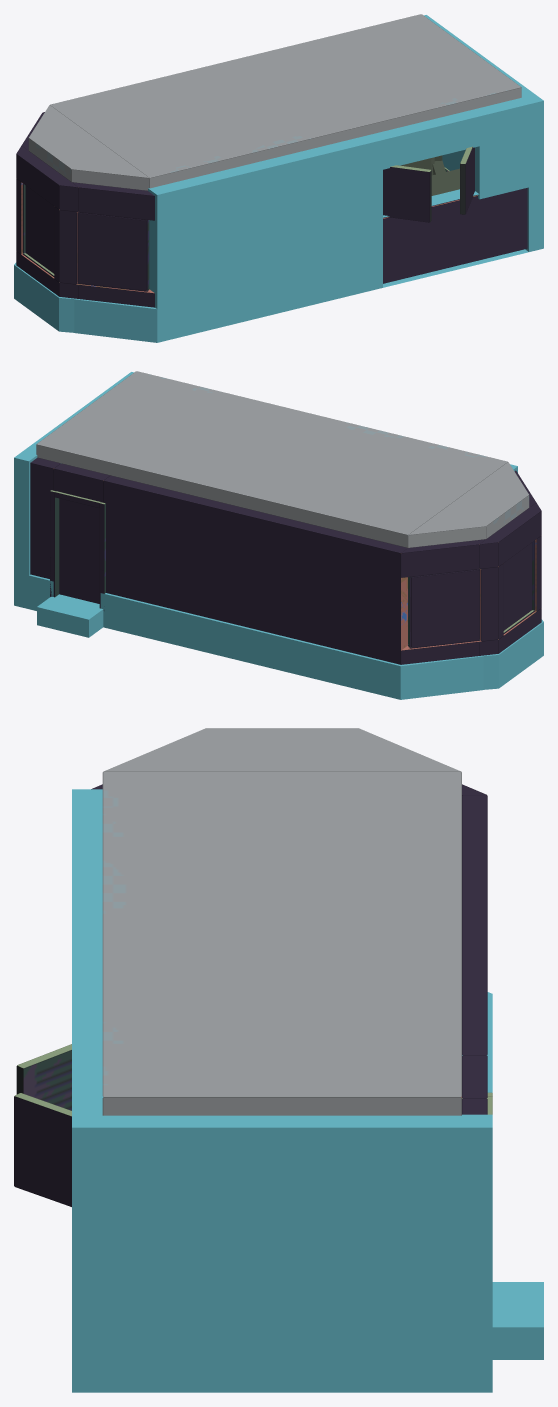
The model's file is Bedroom.fbx.
The picture shows the model from 3 angles, top to bottom: view 1: azimuth 30°, elevation 25°; view 2: azimuth 150°, elevation 25°; view 3: azimuth 270°, elevation 25°; orthographic projection. The views are drawn at different scales.
Parts seen in each view (by area): view 1: map border, cuboid_3, wall behind_16, cuboid_4, cuboid_8, cuboid_6, wall behind_10, wall behind_11, cuboid_7, wall behind_19, wall behind_14, wall behind_13 (+6 smaller); view 2: cuboid_3, wall behind_7, map border, cuboid_4, cuboid_9, door, wall behind_8, wall behind_9, wall behind_11, cuboid_7, frames_9, wall behind_20 (+6 smaller); view 3: map border, cuboid_3, cuboid_4, wall behind_7, cuboid_5, cuboid_6, wall behind_12.
Boxes of the visible parts, x1=… form: map border: x1=14, y1=15, x2=543, y2=342; cuboid_3: x1=50, y1=14, x2=521, y2=188; wall behind_16: x1=383, y1=188, x2=527, y2=283; cuboid_4: x1=28, y1=105, x2=149, y2=190; cuboid_8: x1=78, y1=212, x2=147, y2=290; cuboid_6: x1=383, y1=165, x2=431, y2=222; wall behind_10: x1=72, y1=182, x2=154, y2=220; wall behind_11: x1=16, y1=145, x2=78, y2=211; cuboid_7: x1=25, y1=185, x2=54, y2=273; wall behind_19: x1=54, y1=206, x2=77, y2=284; wall behind_14: x1=78, y1=284, x2=154, y2=307; wall behind_13: x1=16, y1=251, x2=78, y2=298; cuboid_3: x1=36, y1=371, x2=507, y2=547; wall behind_7: x1=103, y1=475, x2=407, y2=664; map border: x1=14, y1=372, x2=543, y2=699; cuboid_4: x1=408, y1=462, x2=529, y2=547; cuboid_9: x1=411, y1=569, x2=479, y2=647; door: x1=59, y1=498, x2=99, y2=603; wall behind_8: x1=30, y1=457, x2=60, y2=578; wall behind_9: x1=401, y1=539, x2=485, y2=577; wall behind_11: x1=479, y1=502, x2=541, y2=568; cuboid_7: x1=503, y1=542, x2=532, y2=630; frames_9: x1=50, y1=490, x2=105, y2=610; wall behind_20: x1=480, y1=563, x2=503, y2=641; map border: x1=72, y1=789, x2=543, y2=1392; cuboid_3: x1=102, y1=771, x2=461, y2=1115; cuboid_4: x1=103, y1=728, x2=461, y2=771; wall behind_7: x1=462, y1=795, x2=487, y2=1055; cuboid_5: x1=14, y1=1093, x2=71, y2=1206; cuboid_6: x1=16, y1=1044, x2=71, y2=1110; wall behind_12: x1=462, y1=1055, x2=487, y2=1098.
Size of the model in its own units: 2262 by 762 by 1291.
17 materials, 17 textured.
